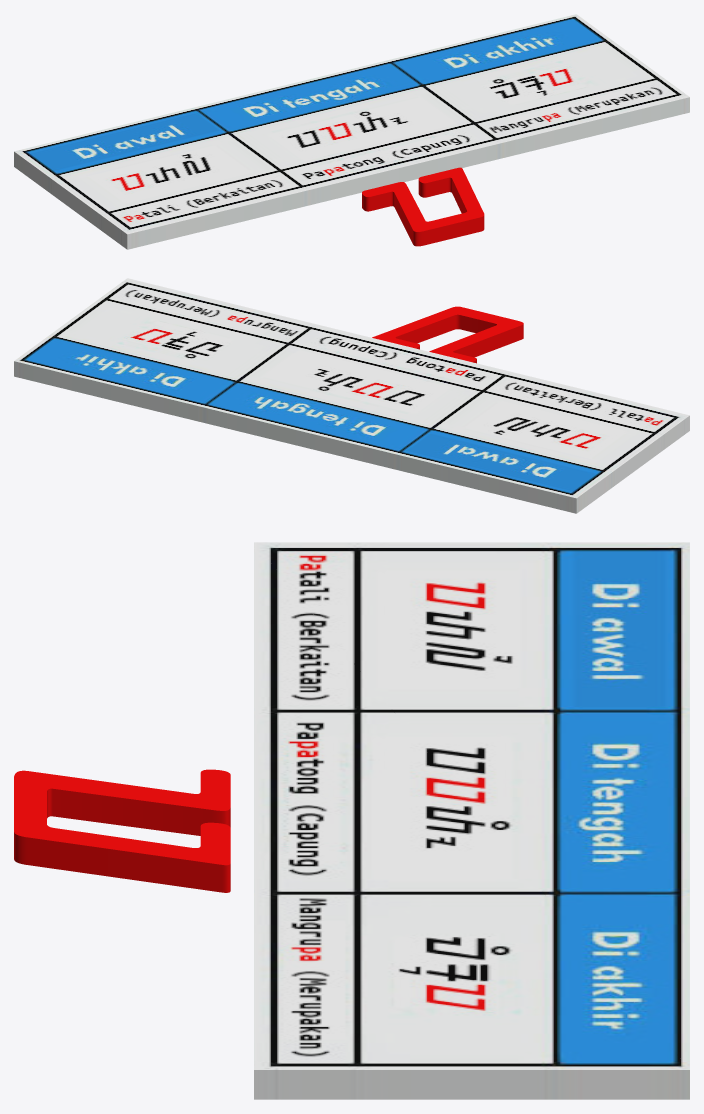
The picture shows the model from 3 angles, top to bottom: view 1: azimuth 30°, elevation 25°; view 2: azimuth 150°, elevation 25°; view 3: azimuth 270°, elevation 25°; orthographic projection. The views are drawn at different scales.
Parts seen in each view (by area): view 1: contoh-bunyi-huruf-pa-Ngalagena, Text; view 2: contoh-bunyi-huruf-pa-Ngalagena, Text; view 3: contoh-bunyi-huruf-pa-Ngalagena, Text.
Part boxes in pixels (left/top/right/bottom): contoh-bunyi-huruf-pa-Ngalagena: left=14, top=14, right=689, bottom=249; Text: left=362, top=167, right=484, bottom=246; contoh-bunyi-huruf-pa-Ngalagena: left=14, top=278, right=689, bottom=513; Text: left=372, top=306, right=523, bottom=363; contoh-bunyi-huruf-pa-Ngalagena: left=254, top=542, right=689, bottom=1099; Text: left=14, top=769, right=230, bottom=892.
Size of the model in its own units: 2.86 by 0.11 by 1.55.
Materials: 2 (1 with a texture image).
